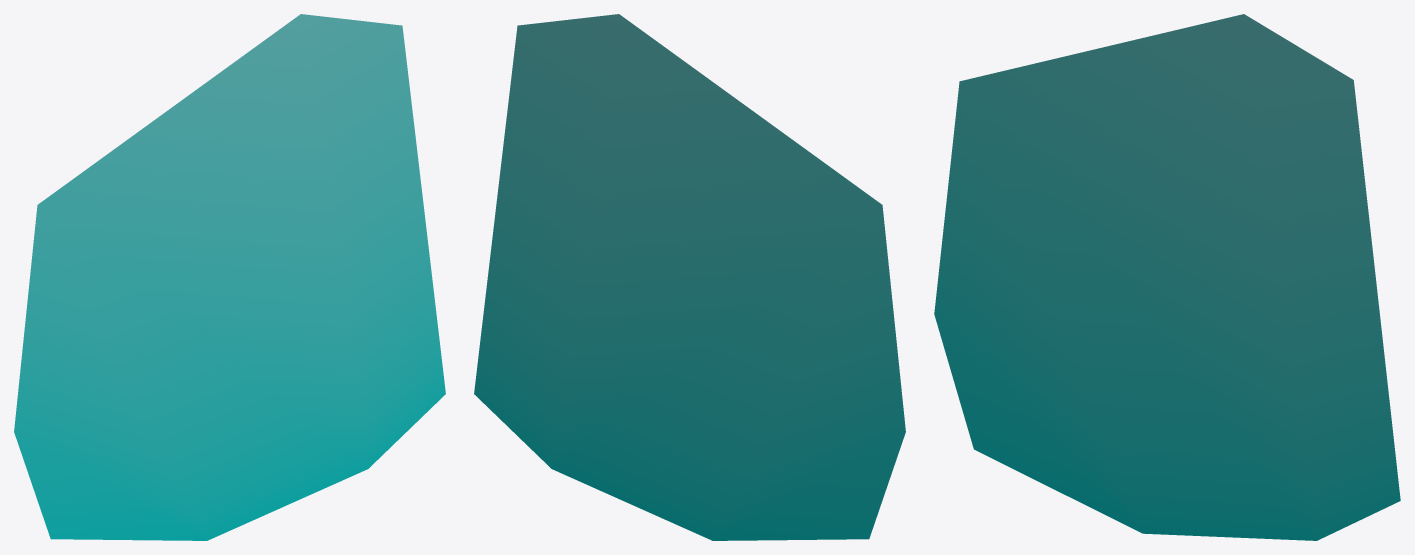
File: Lemon_Balm_umslacdia_Mid_umslacdia_VarB_LOD3.fbx
3 renders of one model, left to right at view 1: azimuth 30°, elevation 25°; view 2: azimuth 150°, elevation 25°; view 3: azimuth 330°, elevation 25°, orthographic. The views are drawn at different scales.
Parts seen in each view (by area): view 1: _svyg_VarB_LOD5; view 2: _svyg_VarB_LOD5; view 3: _svyg_VarB_LOD5.
Part boxes in pixels (x1=…): _svyg_VarB_LOD5: x1=14, y1=14, x2=445, y2=540; _svyg_VarB_LOD5: x1=474, y1=14, x2=905, y2=540; _svyg_VarB_LOD5: x1=934, y1=14, x2=1400, y2=540.
Bounding box in the file's own units: 66.2 × 73.83 × 0.
